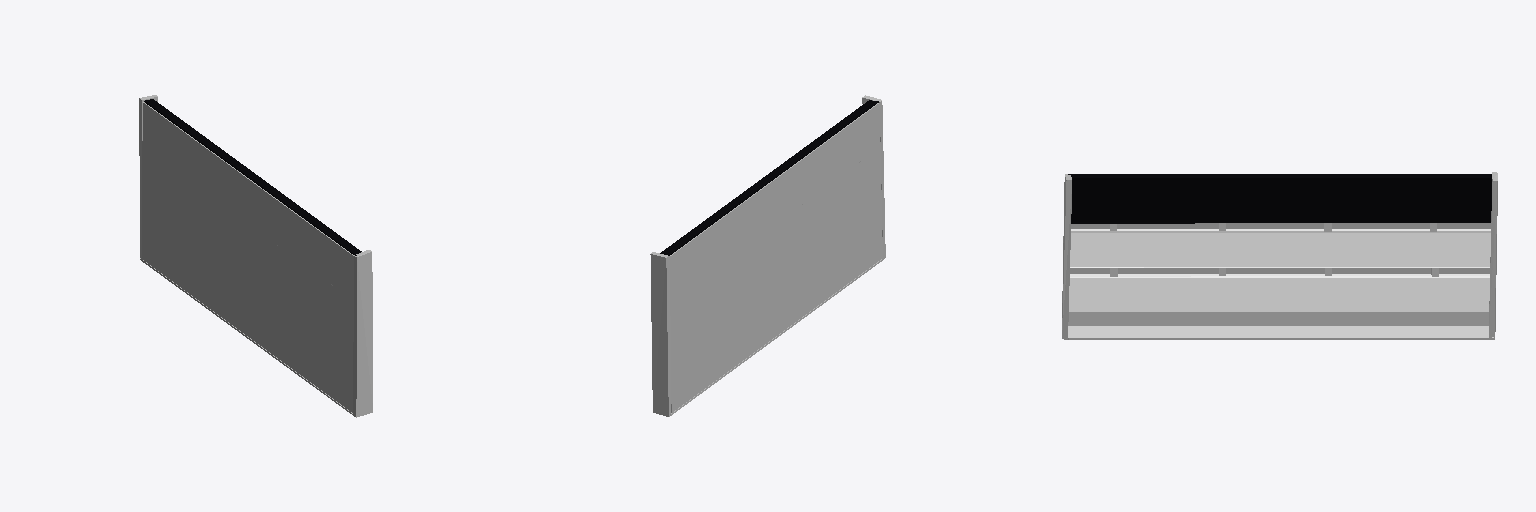
Rendered from north_south_wall.obj.
3 views of the same model, side by side, from view 1: azimuth 30°, elevation 25°; view 2: azimuth 150°, elevation 25°; view 3: azimuth 270°, elevation 25° (orthographic).
Visible parts, largest first — view 1: Cube.022_, Cube.022_Material.001; view 2: Cube.022_, Cube.022_Material.001; view 3: Cube.022_Material, Cube.022_Material.001, Cube.022_.
Part boxes in pixels (bbox=[...]): Cube.022_: bbox=[139, 95, 372, 417]; Cube.022_Material.001: bbox=[144, 99, 361, 255]; Cube.022_: bbox=[650, 95, 885, 416]; Cube.022_Material.001: bbox=[660, 100, 878, 255]; Cube.022_Material: bbox=[1068, 229, 1493, 337]; Cube.022_Material.001: bbox=[1068, 174, 1491, 223]; Cube.022_: bbox=[1062, 172, 1497, 339].
Size of the model in its own units: 4.2 by 33.49 by 82.53.